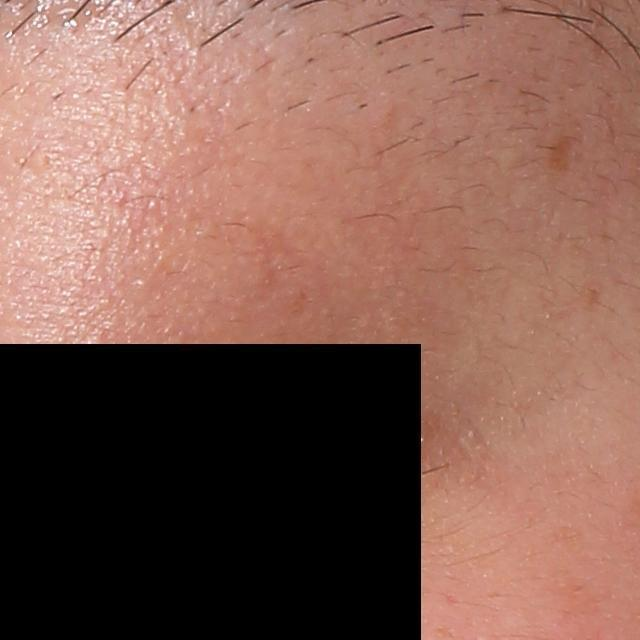melasma: (550, 576, 602, 622), (547, 133, 581, 176)
